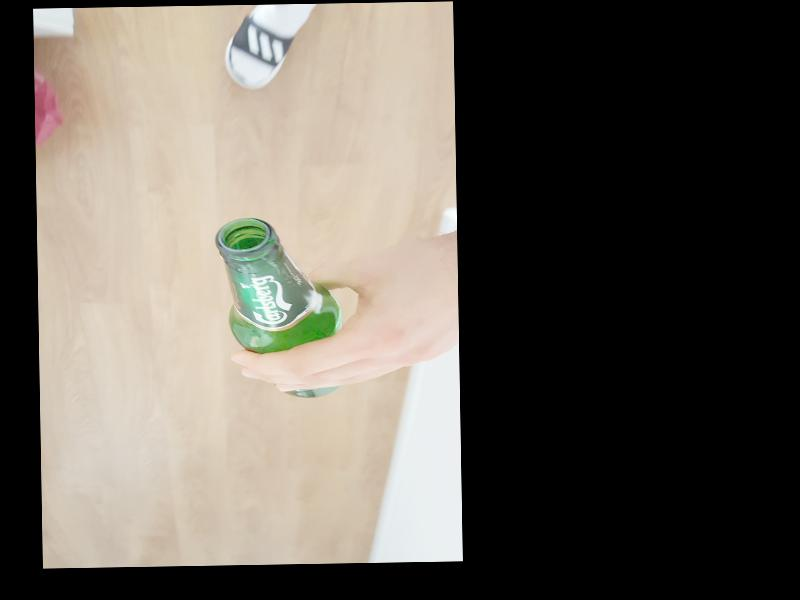Beer: (213, 216, 342, 399)
